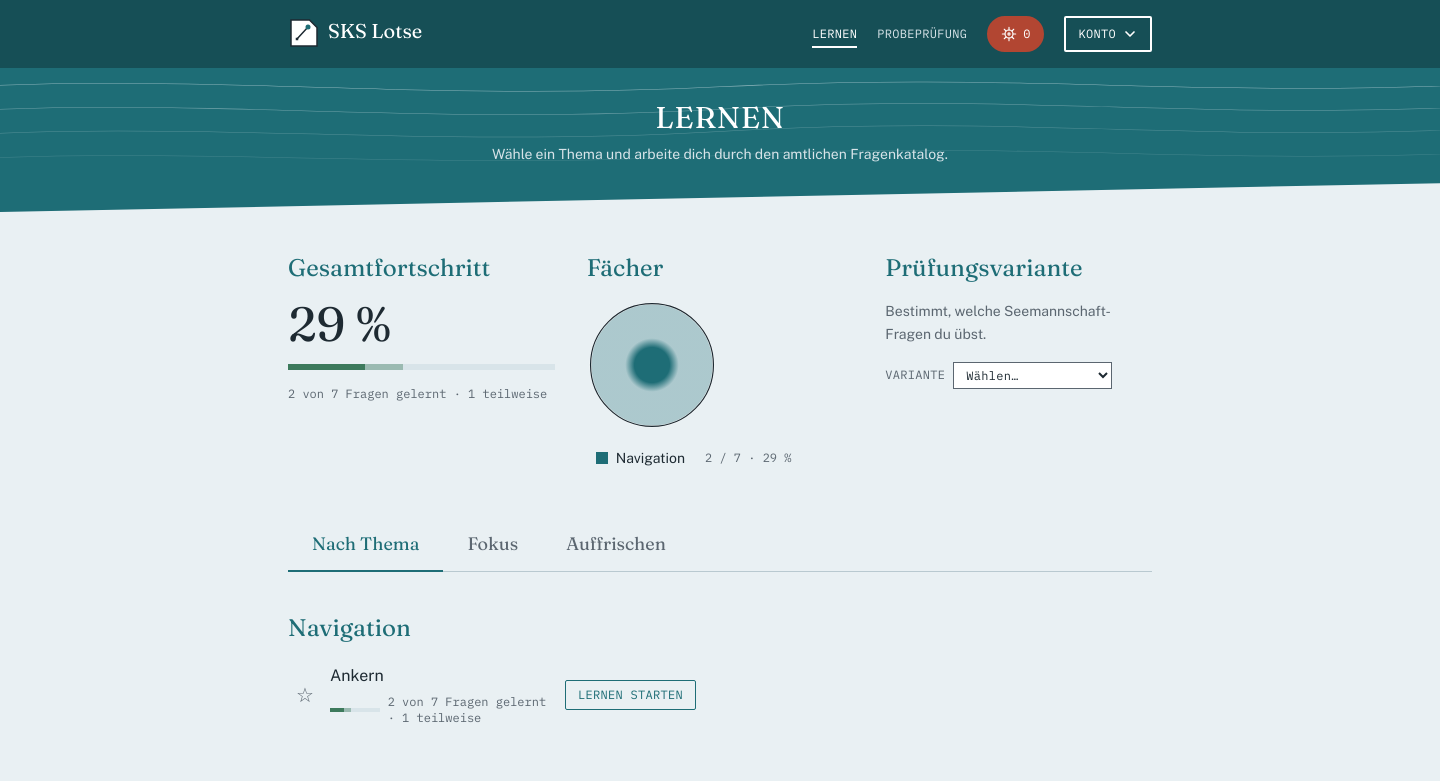
Scenario: LearnPage › marks a topic as Fokus with the star and reloads the Lernstand
Step 1. Click the tab "Fokus" → (493, 545), box left=443, top=518, right=542, bottom=572
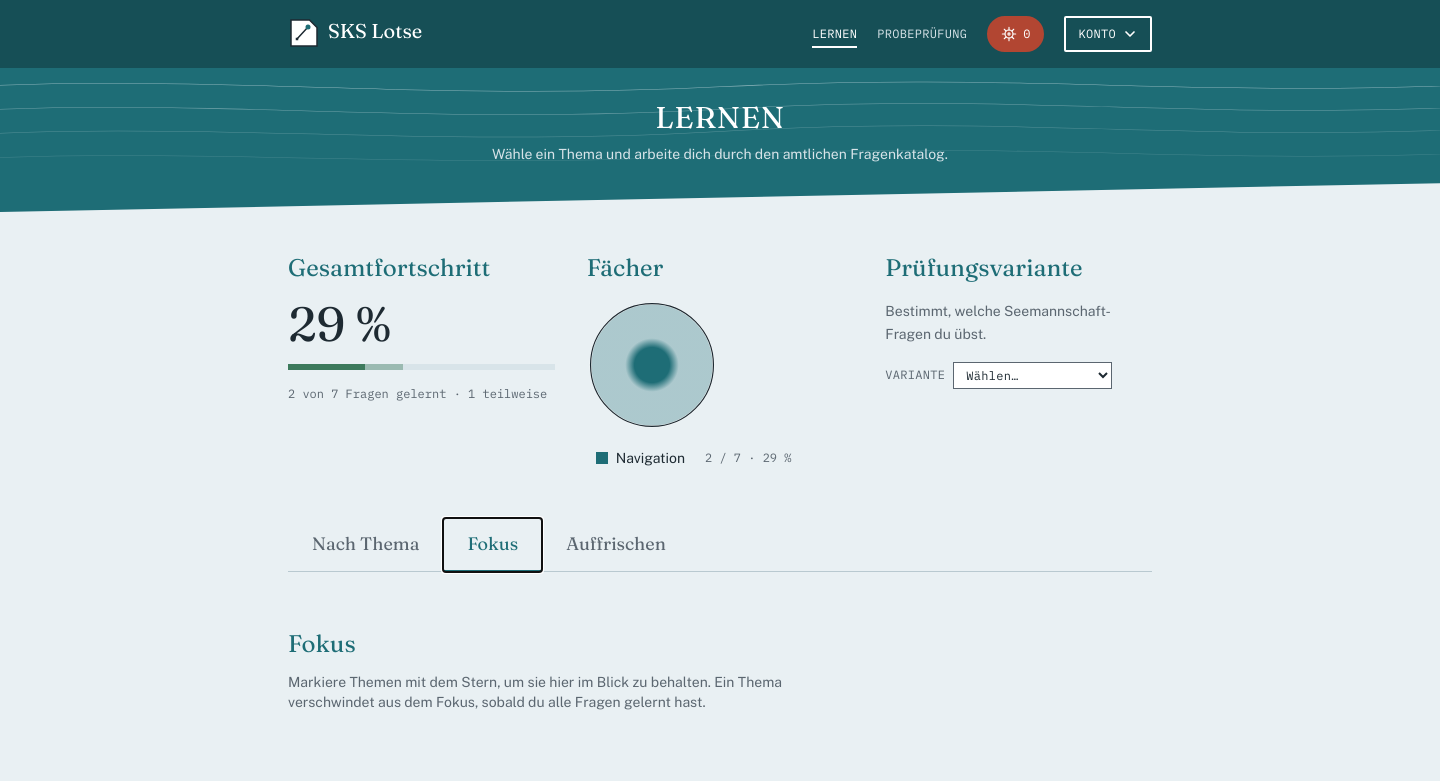
Now the text "Markiere Themen mit dem Stern" is shown, box left=288, top=674, right=782, bottom=710
Step 2. Click the tab "Nach Thema" → (366, 545), box left=288, top=518, right=443, bottom=572
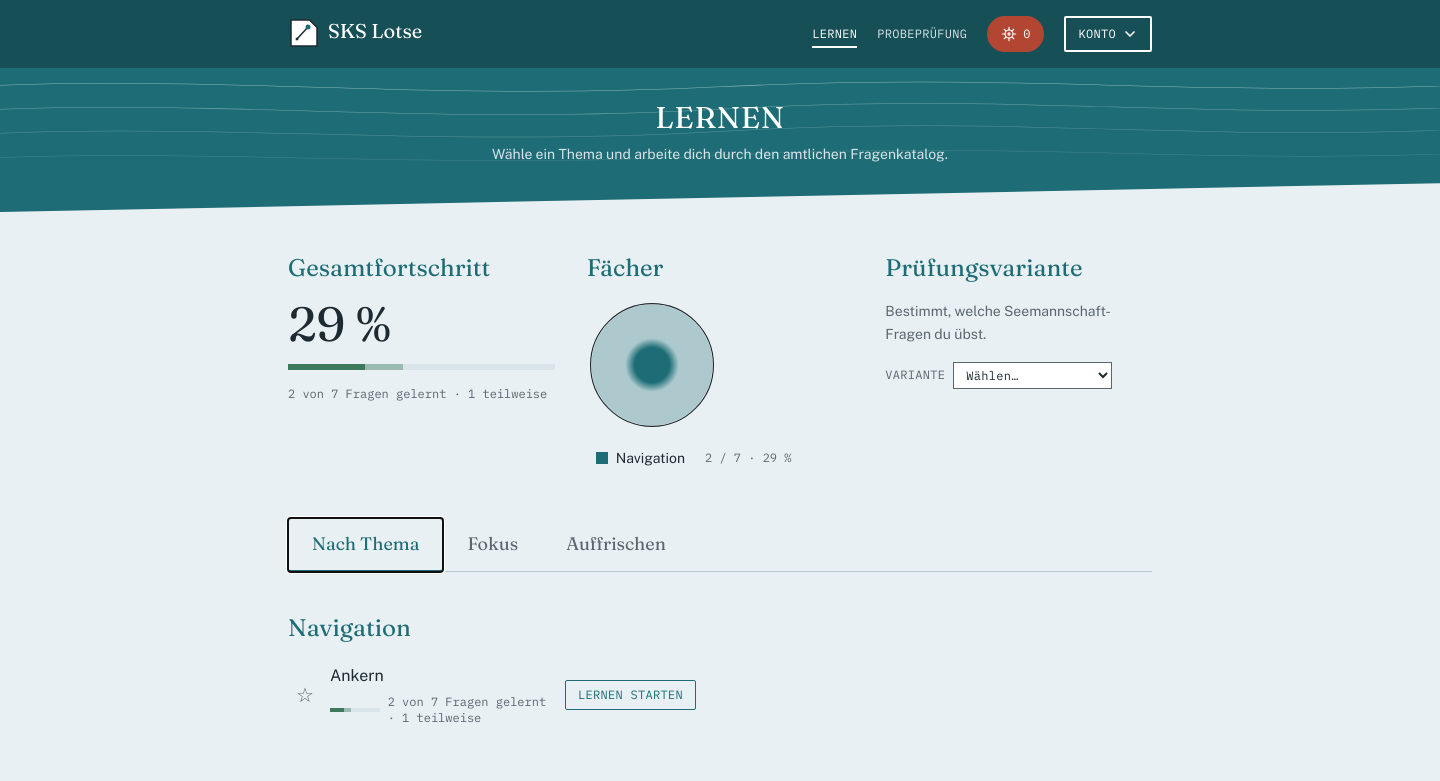
Step 3. Click the button named "Als Fokus markieren: Ankern" → (305, 695), box left=292, top=681, right=318, bottom=709
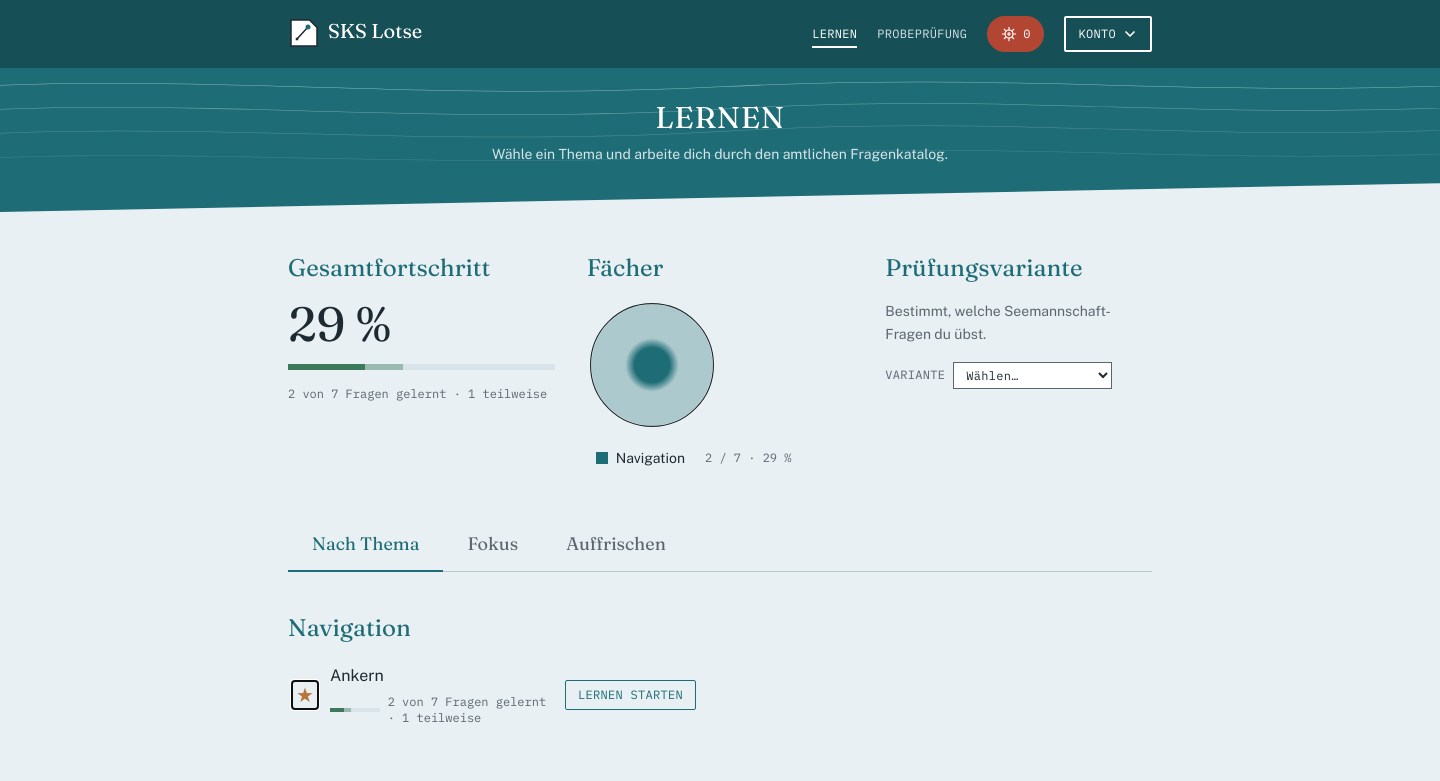
Now the button named "Fokus entfernen: Ankern" is shown, box left=292, top=681, right=318, bottom=709
Step 4. Click the tab "Fokus" → (493, 545), box left=443, top=518, right=542, bottom=572
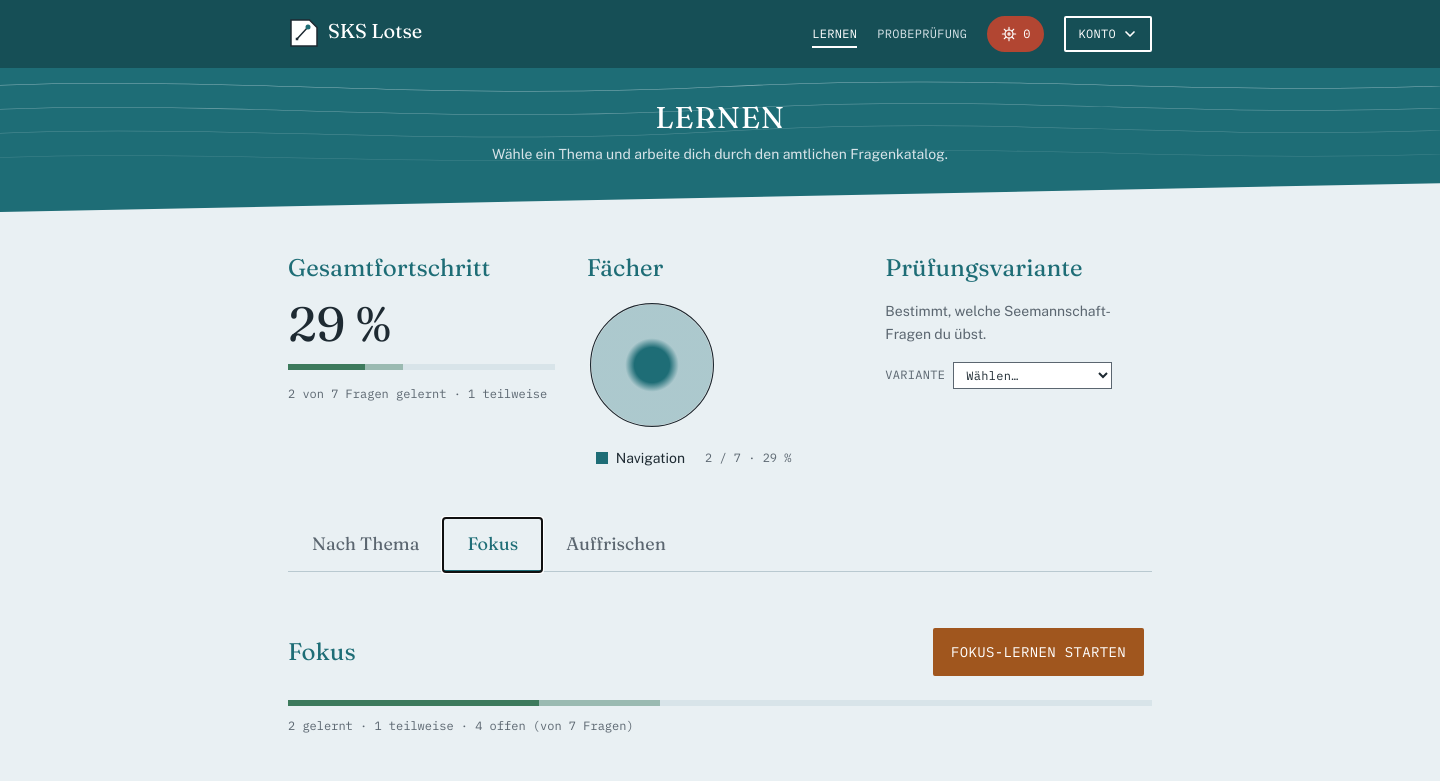
Now the text "2 gelernt · 1 teilweise · 4 offen (von 7 Fragen)" is shown, box left=288, top=718, right=634, bottom=733
